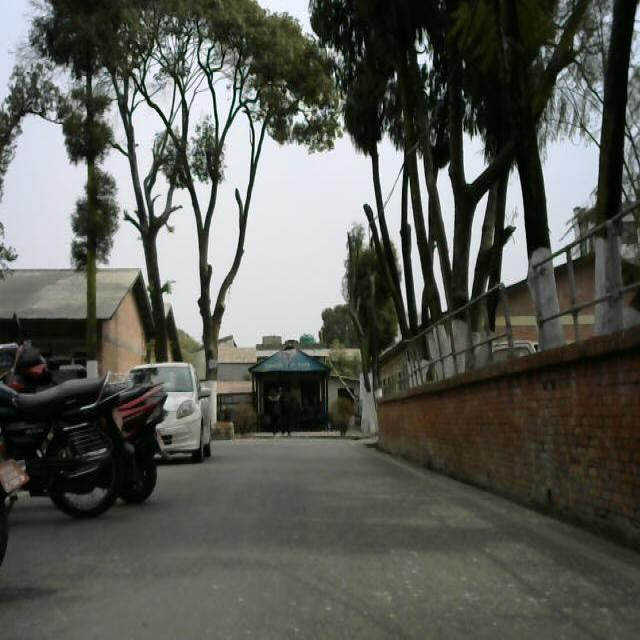Bike: (0, 328, 168, 555)
Road: (152, 439, 640, 640)
trees: (35, 0, 315, 374), (314, 6, 640, 279)
